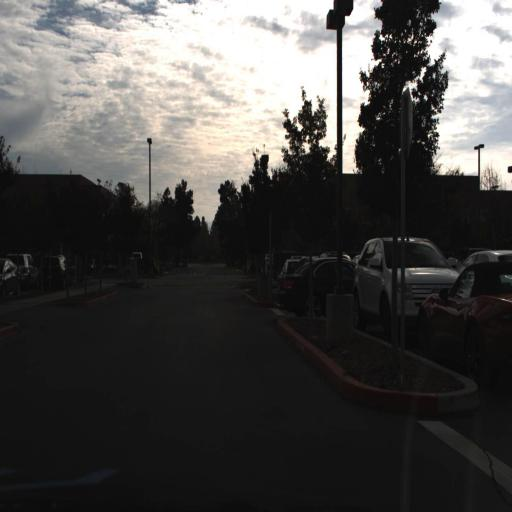car: (414, 260, 511, 397), (347, 232, 452, 347), (277, 249, 358, 312), (12, 251, 42, 290), (43, 250, 69, 294), (1, 254, 21, 306)
